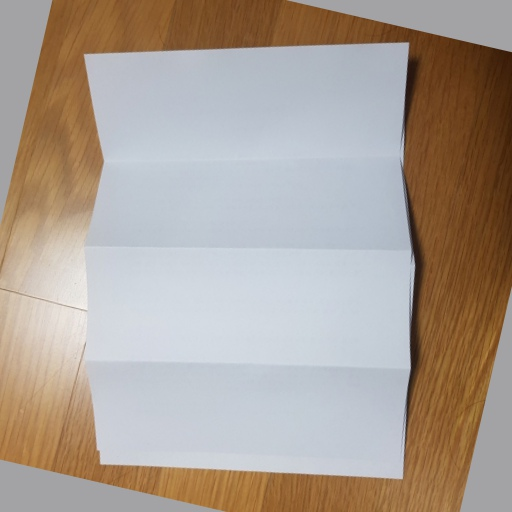Paper_3: (55, 35, 449, 487)
